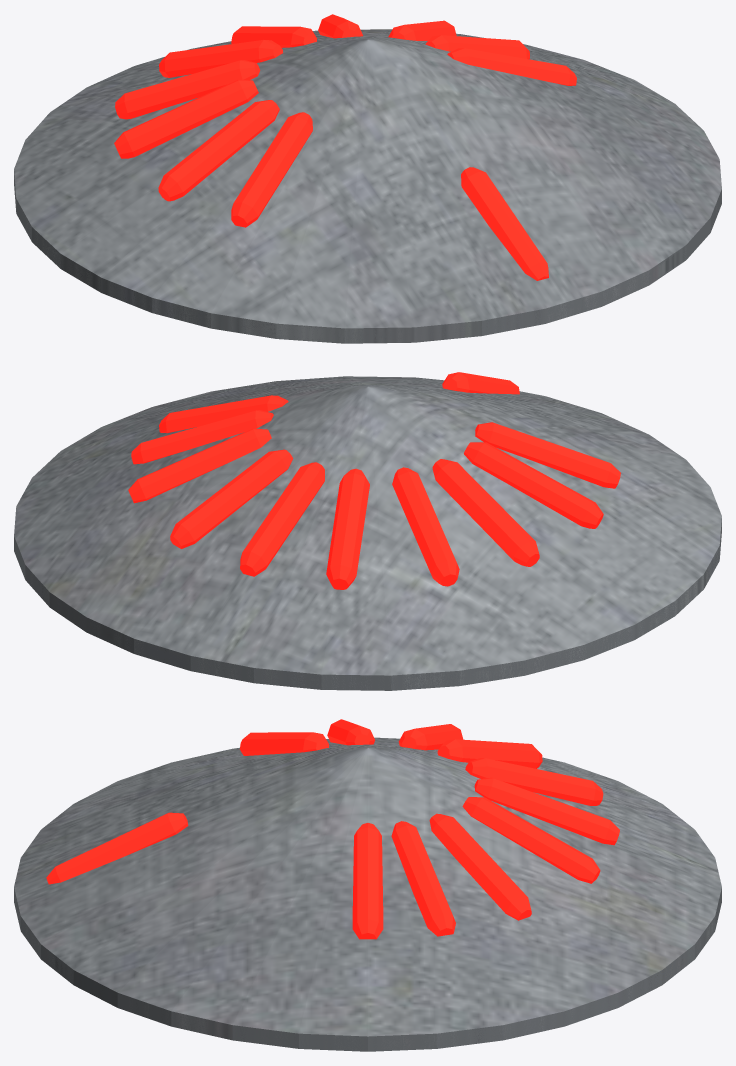
Rendered from dev1.glb.
The picture shows the model from 3 angles, top to bottom: view 1: azimuth 30°, elevation 25°; view 2: azimuth 150°, elevation 25°; view 3: azimuth 270°, elevation 25°; orthographic projection.
Parts seen in each view (by area): view 1: Cylinder.011; view 2: Cylinder.011; view 3: Cylinder.011.
Part boxes in pixels (left/top/right/bottom): Cylinder.011: left=14, top=14, right=721, bottom=343; Cylinder.011: left=14, top=372, right=721, bottom=690; Cylinder.011: left=14, top=719, right=721, bottom=1051.
Size of the model in its own units: 0.3941 by 0.0948 by 0.3941.
2 materials, 1 textured.
